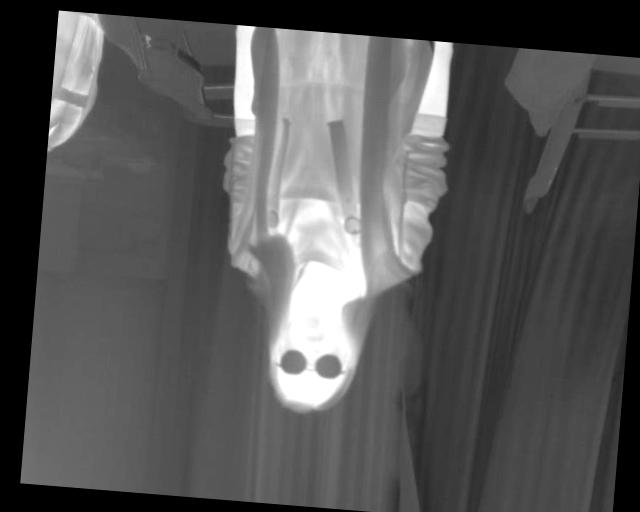face: (266, 309, 359, 417)
